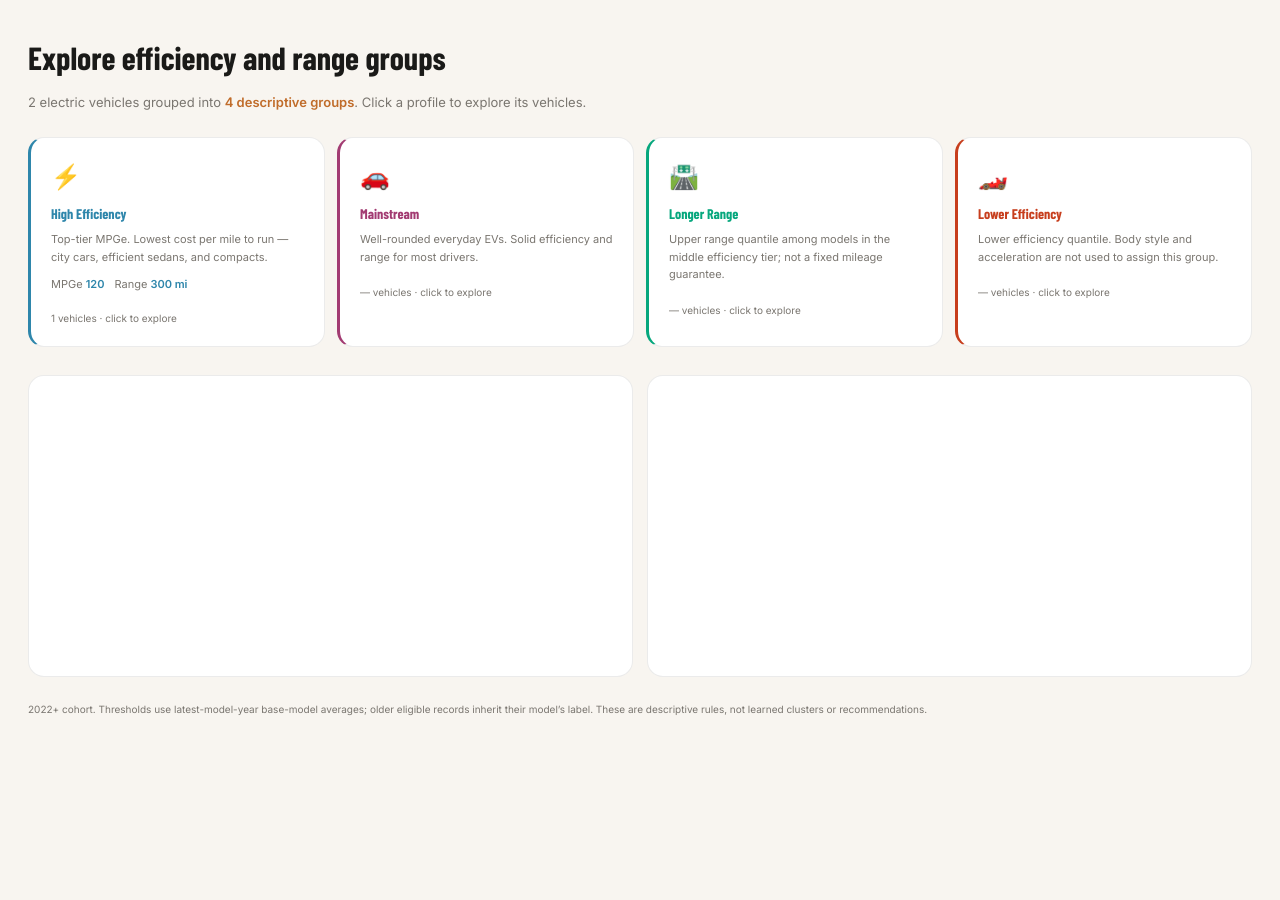
Test: does not count null segment labels as High Efficiency
Expected: the text "1 vehicles · click to explore" is shown, x1=51 y1=312 x2=177 y2=324
What coordinates should you click on to do the following:
click the text "High Efficiency"
I would click on:
 (89, 213)
Its box is x1=51 y1=205 x2=126 y2=222.
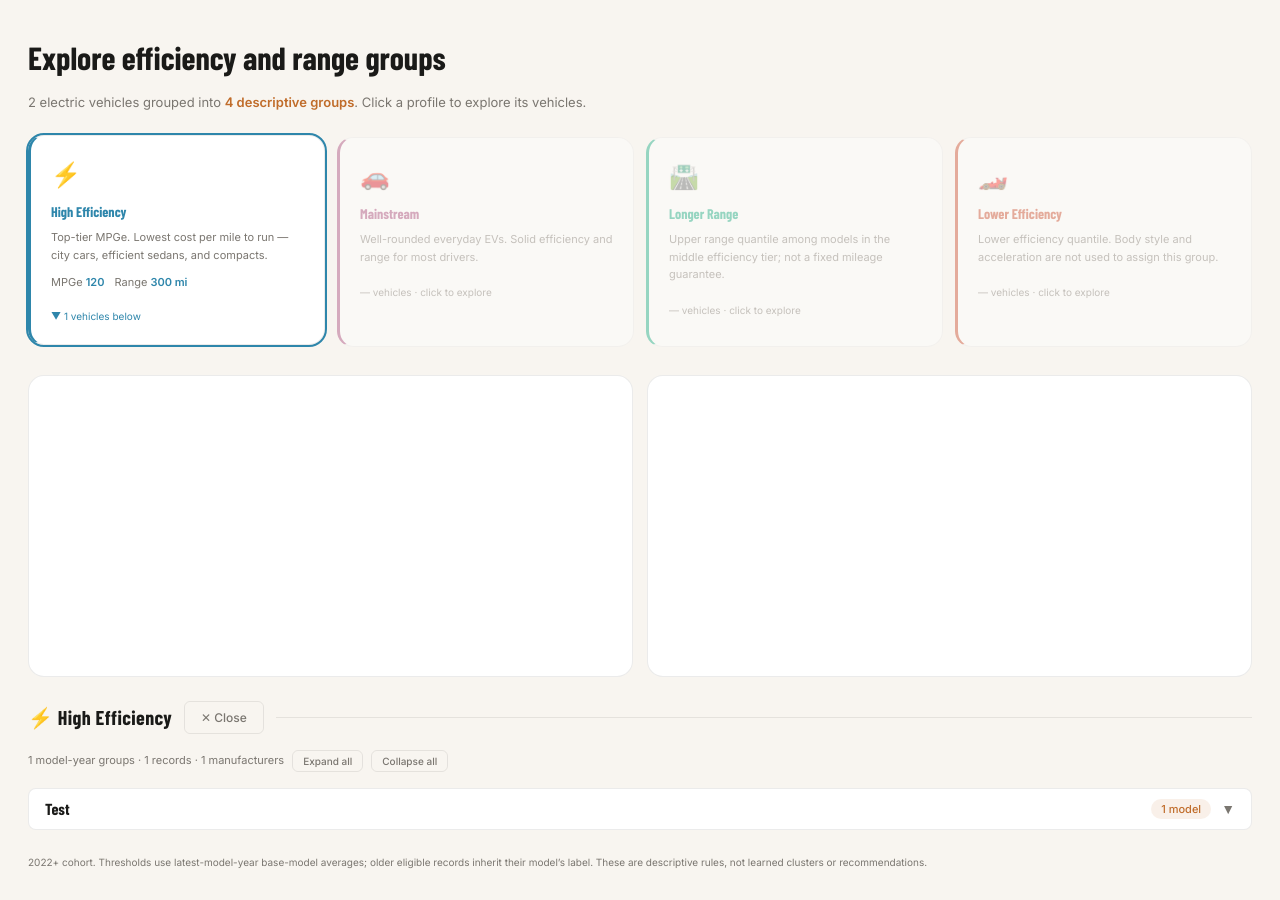
Now the text "▼ 1 vehicles below" is shown, box x1=51 y1=310 x2=141 y2=322
